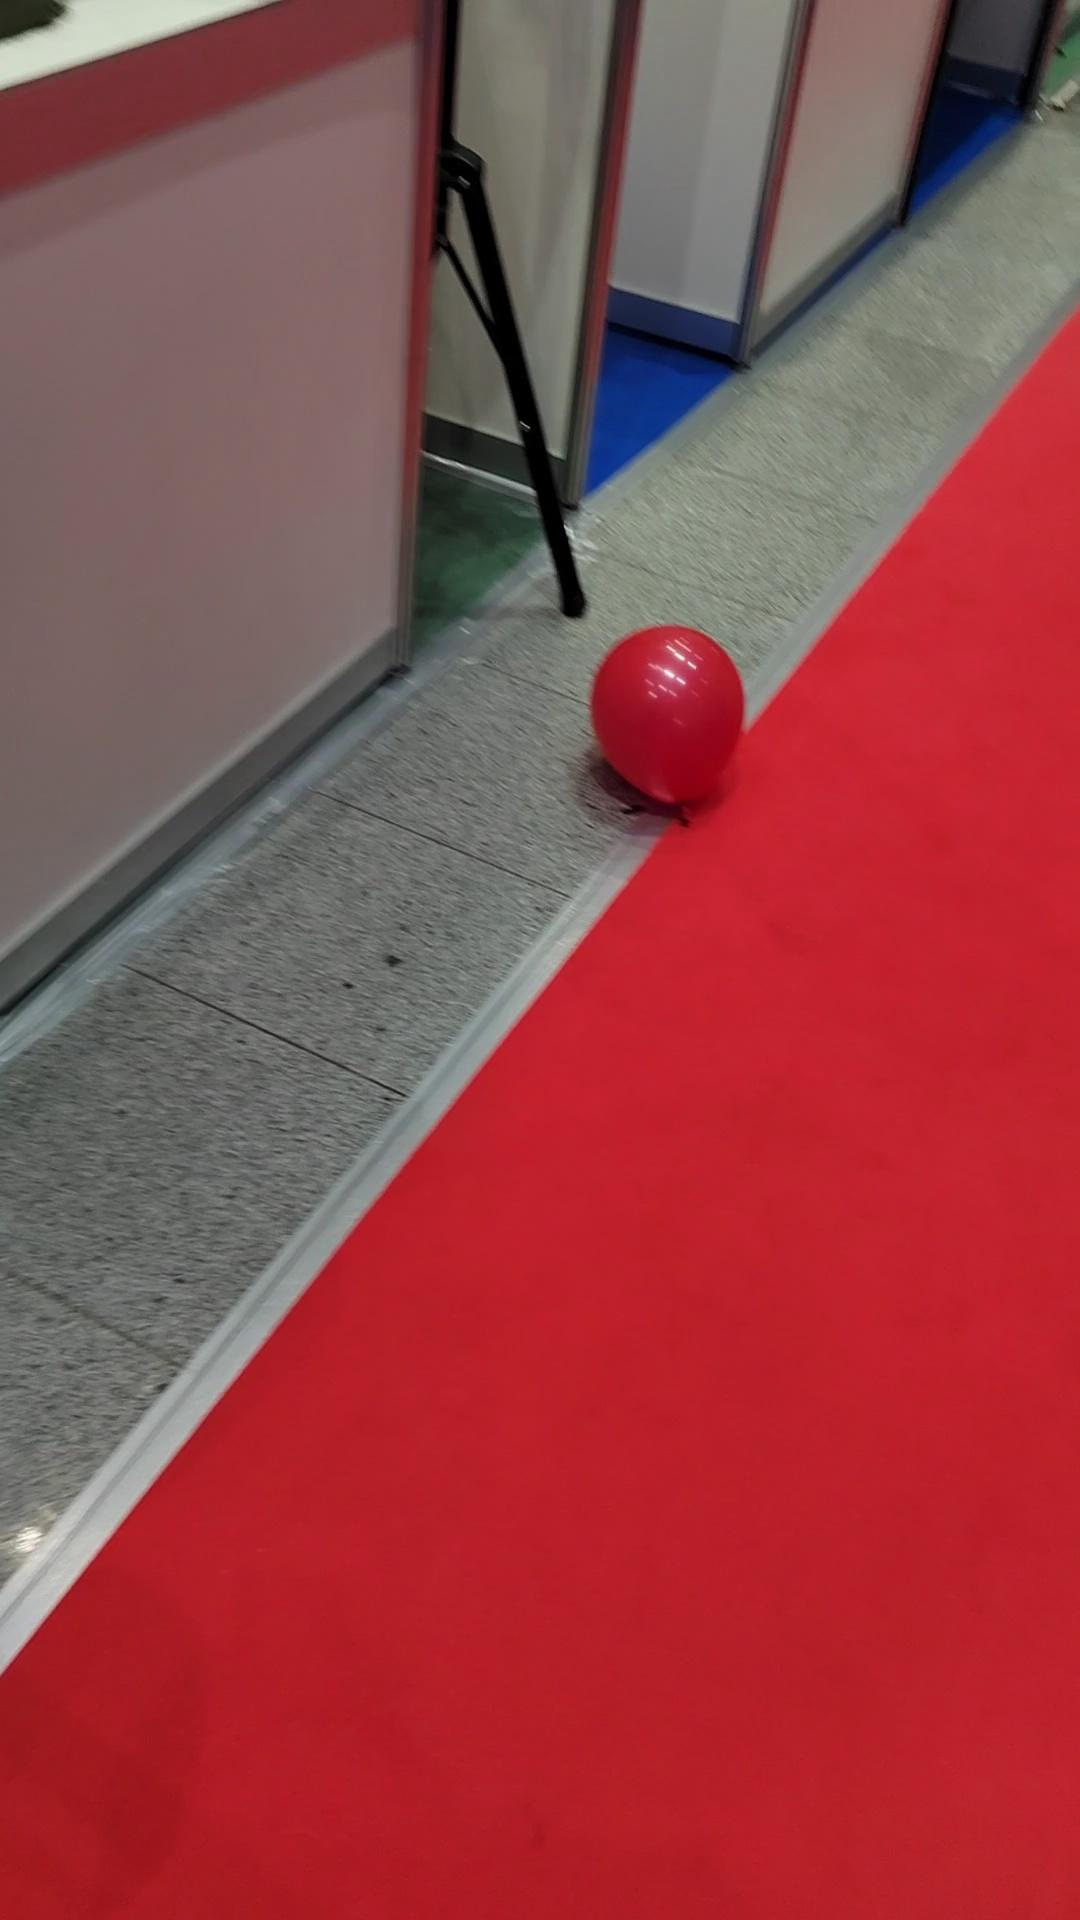red: (589, 625, 745, 808)
